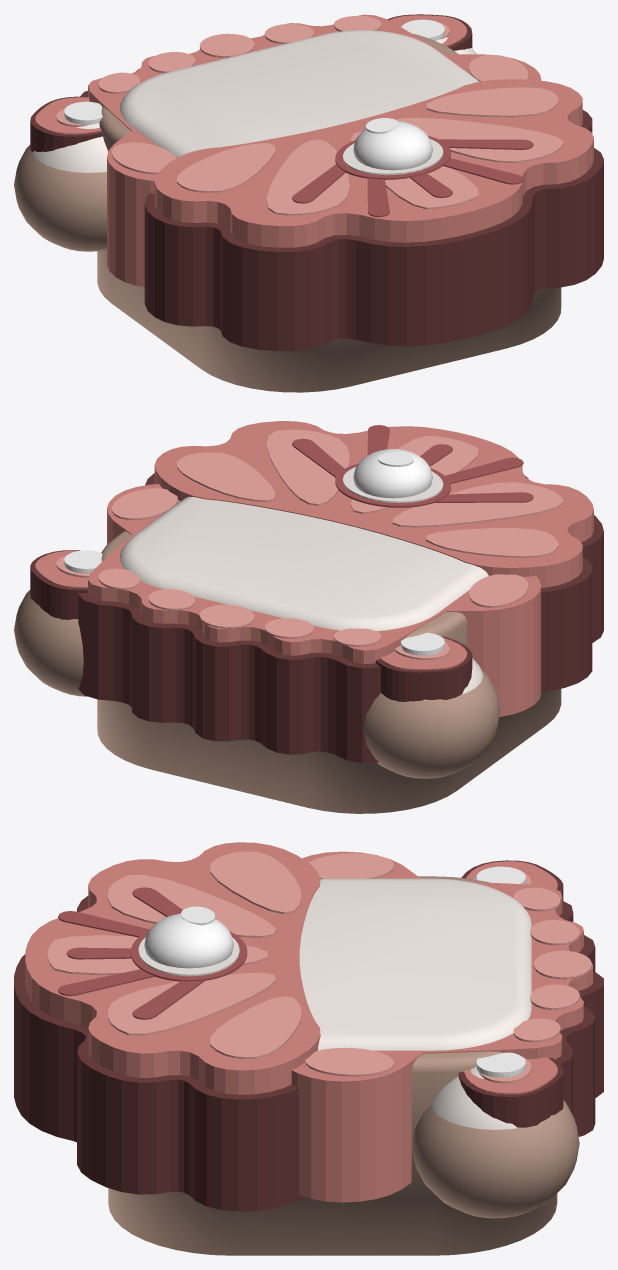
The model's file is body_ostra.fbx.
3 views of the same model, one above another, from view 1: azimuth 30°, elevation 25°; view 2: azimuth 150°, elevation 25°; view 3: azimuth 270°, elevation 25° (orthographic). The views are drawn at different scales.
Visible parts, largest first — view 1: body_ostra_corpo, body_ostra_mao_esq, body_ostra_mao; view 2: body_ostra_corpo, body_ostra_mao_esq, body_ostra_mao; view 3: body_ostra_corpo, body_ostra_mao, body_ostra_mao_esq.
Boxes of the visible parts, x1,y1,x2,y2 form: body_ostra_corpo: [80, 14, 603, 392]; body_ostra_mao_esq: [14, 96, 107, 251]; body_ostra_mao: [387, 14, 476, 54]; body_ostra_corpo: [78, 421, 603, 813]; body_ostra_mao_esq: [363, 632, 499, 778]; body_ostra_mao: [14, 550, 102, 696]; body_ostra_corpo: [14, 842, 603, 1255]; body_ostra_mao: [412, 1052, 579, 1218]; body_ostra_mao_esq: [461, 860, 563, 900].
Bounding box in the file's own units: 5.4 × 2.38 × 5.26.
Materials: 1 (1 with a texture image).
